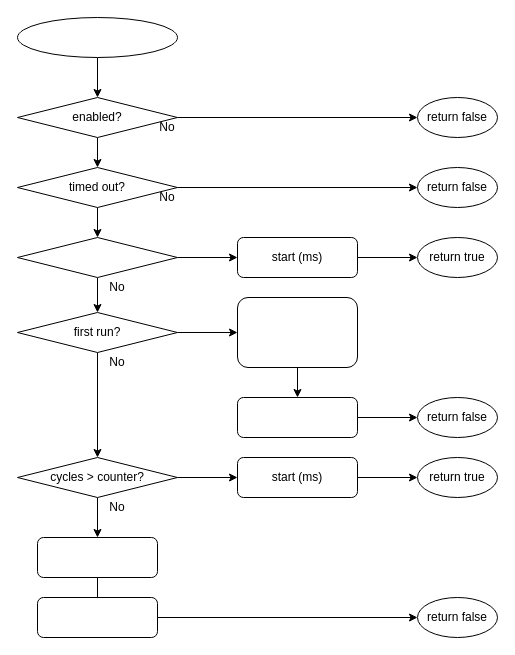
Image size: 515x655. Some labels were removed from this diagram. Each missing label, with the centre of its shape:
Cycles == 0?: point (97, 257)
done (msec, cycles): point (97, 37)
enabled = false: point (97, 557)
first run = false: point (297, 417)
firstRun=true: point (97, 617)
start (ms) Store setMillis Update prevMillis: point (297, 332)
